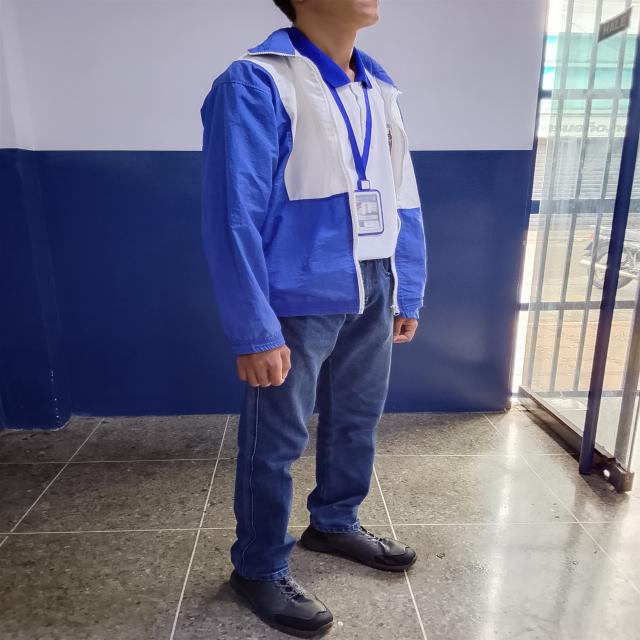carnet: (352, 193, 383, 233)
chaqueta_unefa: (200, 24, 428, 356)
